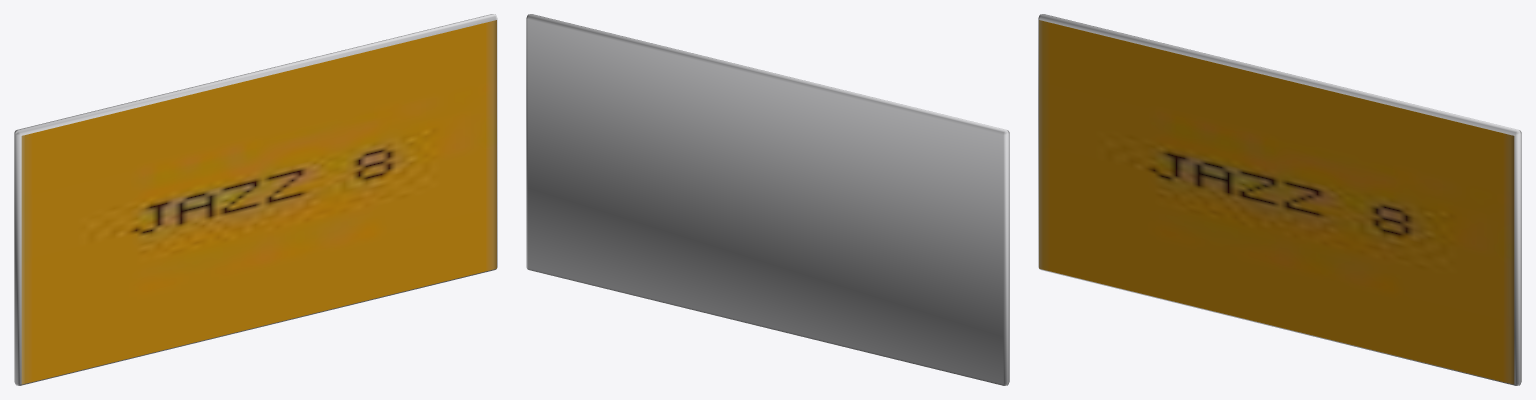
The model's file is license_plate_2.glb.
3 views of the same model, side by side, from view 1: azimuth 30°, elevation 25°; view 2: azimuth 150°, elevation 25°; view 3: azimuth 330°, elevation 25° (orthographic).
Parts seen in each view (by area): view 1: Plate, Plate back; view 2: Plate back; view 3: Plate, Plate back.
Part boxes in pixels (<box>): Plate: <box>21,20,496,384</box>; Plate back: <box>14,14,497,385</box>; Plate back: <box>526,14,1009,385</box>; Plate: <box>1039,20,1514,384</box>; Plate back: <box>1038,14,1521,385</box>.
Bounding box in the file's own units: 0.304 × 0.154 × 0.006.
Materials: 2 (1 with a texture image).
